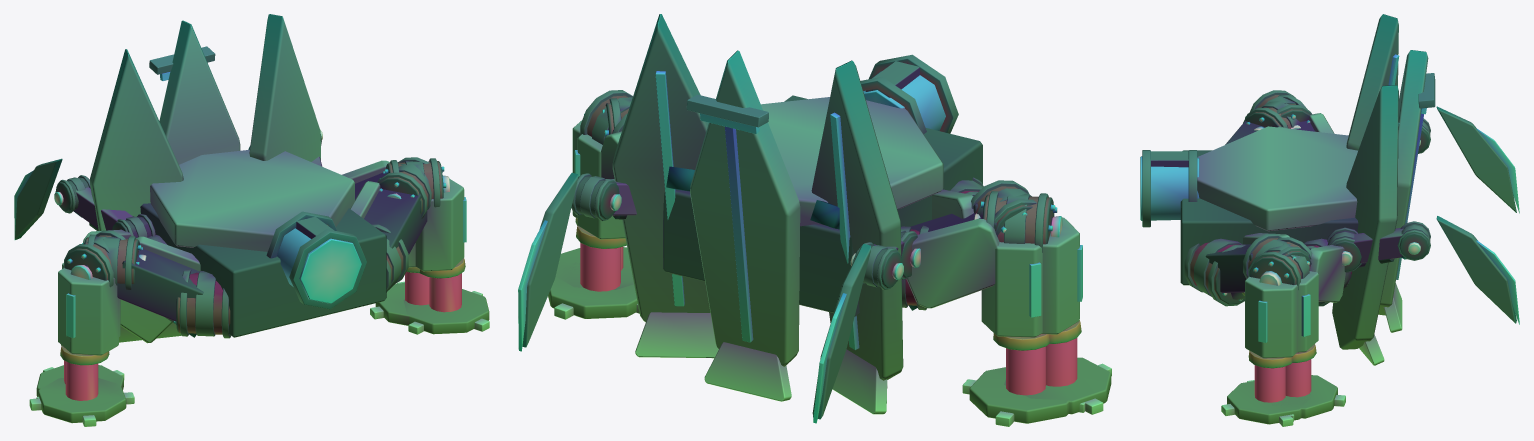
Rendered from aegis.glb.
3 renders of one model, left to right at view 1: azimuth 30°, elevation 25°; view 2: azimuth 150°, elevation 25°; view 3: azimuth 270°, elevation 25°, orthographic. The views are drawn at different scales.
Visible parts, largest first — view 1: Body__armor, Body__dark, Plate_0__armor_sub, Plate_1__armor_sub, Hip_2__dark, Hip_0_Knee__armor, SacMain__emit_core, Hip_1_Knee__armor, Body__gunmetal, Scythe_0__gunmetal, Hip_3__dark, Hip_0_Knee__armor_sub (+22 smaller); view 2: Body__armor, Plate_1__armor_sub, Plate_0__armor_sub, Body__dark, Hip_0__armor, Hip_2_Knee__armor, Scythe_1__gunmetal, Body__gunmetal, Hip_0_Knee__armor, Body__chrome, Scythe_0__gunmetal, Plate_1__chrome (+28 smaller); view 3: Body__armor, Plate_1__armor_sub, Body__dark, Hip_1_Knee__armor, Scythe_1__gunmetal, Plate_0__armor_sub, Scythe_0__gunmetal, SacMain__emit_core, Hip_3__dark, Hip_1_Knee__armor_sub, Hip_1_Knee__chrome, Body__gunmetal (+22 smaller).
Boxes of the visible parts, left/top/right/bottom form: Body__armor: left=150, top=20, right=354, bottom=251; Body__dark: left=140, top=146, right=386, bottom=337; Plate_0__armor_sub: left=90, top=49, right=183, bottom=343; Plate_1__armor_sub: left=249, top=14, right=320, bottom=161; Hip_2__dark: left=117, top=249, right=230, bottom=337; Hip_0_Knee__armor: left=58, top=268, right=118, bottom=355; SacMain__emit_core: left=277, top=228, right=361, bottom=303; Hip_1_Knee__armor: left=415, top=178, right=464, bottom=271; Body__gunmetal: left=149, top=46, right=366, bottom=309; Scythe_0__gunmetal: left=15, top=158, right=155, bottom=239; Hip_3__dark: left=364, top=189, right=427, bottom=280; Hip_0_Knee__armor_sub: left=38, top=378, right=126, bottom=423; Body__armor: left=690, top=50, right=943, bottom=366; Plate_1__armor_sub: left=612, top=14, right=710, bottom=322; Plate_0__armor_sub: left=811, top=60, right=903, bottom=380; Body__dark: left=663, top=95, right=982, bottom=316; Hip_0__armor: left=906, top=218, right=999, bottom=308; Hip_2_Knee__armor: left=981, top=242, right=1042, bottom=337; Scythe_1__gunmetal: left=522, top=172, right=616, bottom=347; Body__gunmetal: left=686, top=54, right=958, bottom=133; Hip_0_Knee__armor: left=1042, top=217, right=1079, bottom=334; Body__chrome: left=704, top=342, right=791, bottom=401; Scythe_0__gunmetal: left=812, top=229, right=917, bottom=419; Plate_1__chrome: left=635, top=312, right=718, bottom=358; Body__armor: left=1197, top=50, right=1428, bottom=315; Plate_1__armor_sub: left=1332, top=85, right=1398, bottom=349; Body__dark: left=1180, top=150, right=1358, bottom=285; Hip_1_Knee__armor: left=1245, top=276, right=1297, bottom=358; Scythe_1__gunmetal: left=1327, top=216, right=1516, bottom=323; Plate_0__armor_sub: left=1346, top=14, right=1398, bottom=150; Scythe_0__gunmetal: left=1418, top=106, right=1516, bottom=212; SacMain__emit_core: left=1140, top=156, right=1199, bottom=220; Hip_3__dark: left=1190, top=242, right=1252, bottom=304; Hip_1_Knee__armor_sub: left=1227, top=381, right=1310, bottom=424; Hip_1_Knee__chrome: left=1221, top=261, right=1293, bottom=426; Body__gunmetal: left=1142, top=73, right=1435, bottom=227.
Bounding box in the file's own units: 2.8 × 1.67 × 2.12.
